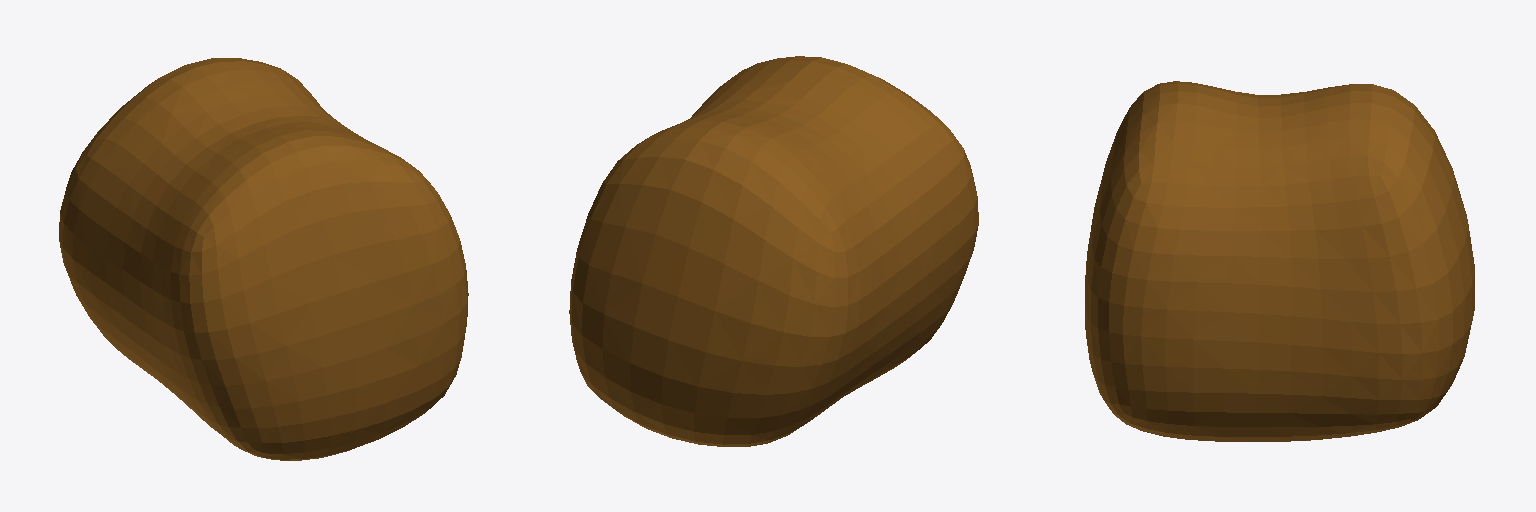
The model's file is fing5_2.obj.
The picture shows the model from 3 angles: view 1: azimuth 30°, elevation 25°; view 2: azimuth 150°, elevation 25°; view 3: azimuth 270°, elevation 25°; orthographic projection.
Visible parts, largest first — view 1: f5o2; view 2: f5o2; view 3: f5o2.
Boxes of the visible parts, box(x1,y1,x2,y2) form: f5o2: box(59, 58, 468, 460); f5o2: box(569, 56, 978, 446); f5o2: box(1085, 81, 1474, 441).
Bounding box in the file's own units: 0.623 × 0.6672 × 0.7469.